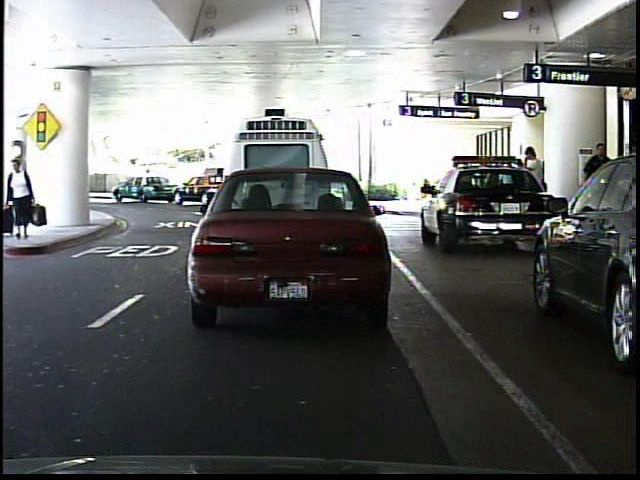person: (580, 139, 617, 234), (516, 141, 551, 234), (7, 154, 38, 242), (140, 164, 159, 198)
